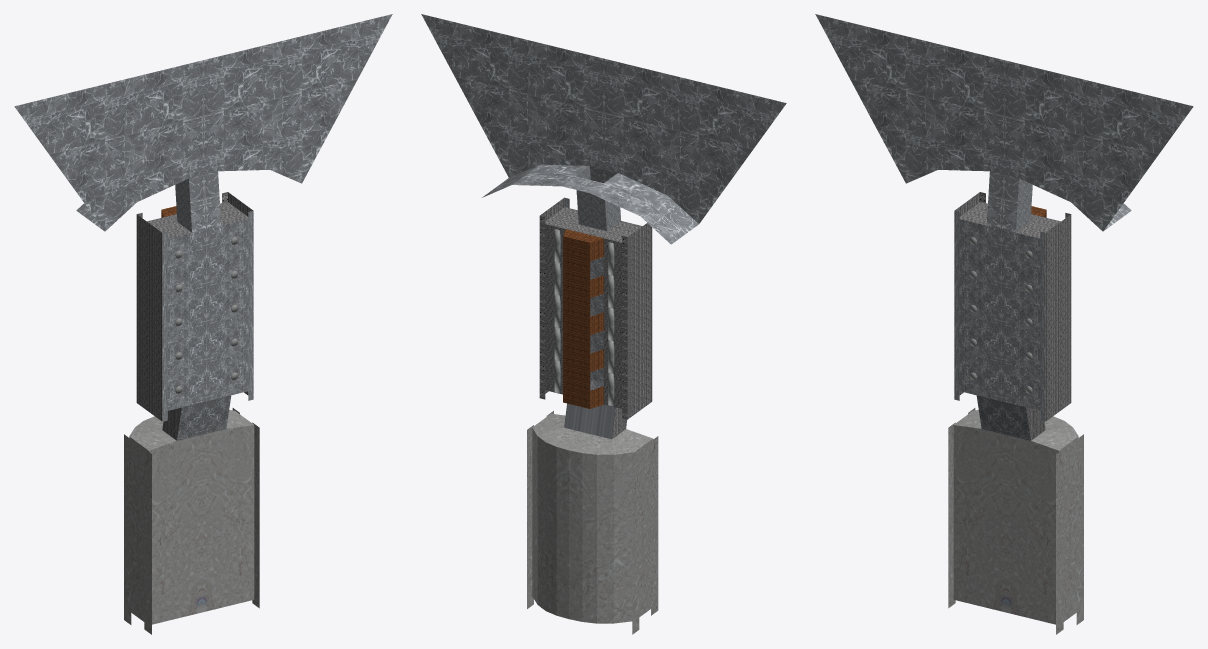
The model's file is hall.dae.
3 views of the same model, side by side, from view 1: azimuth 30°, elevation 25°; view 2: azimuth 150°, elevation 25°; view 3: azimuth 330°, elevation 25° (orthographic). The views are drawn at different scales.
Visible parts, largest first — view 1: entrance, hall; view 2: entrance, hall, pillars; view 3: entrance, hall.
Part boxes in pixels (bbox=[...]): entrance: bbox=[14, 14, 392, 440]; hall: bbox=[124, 408, 259, 634]; entrance: bbox=[421, 14, 786, 439]; hall: bbox=[527, 411, 658, 634]; pillars: bbox=[554, 229, 614, 406]; entrance: bbox=[815, 14, 1193, 440]; hall: bbox=[948, 408, 1083, 634].
Size of the model in its own units: 217 by 40.54 by 310.
5 materials, 5 textured.
